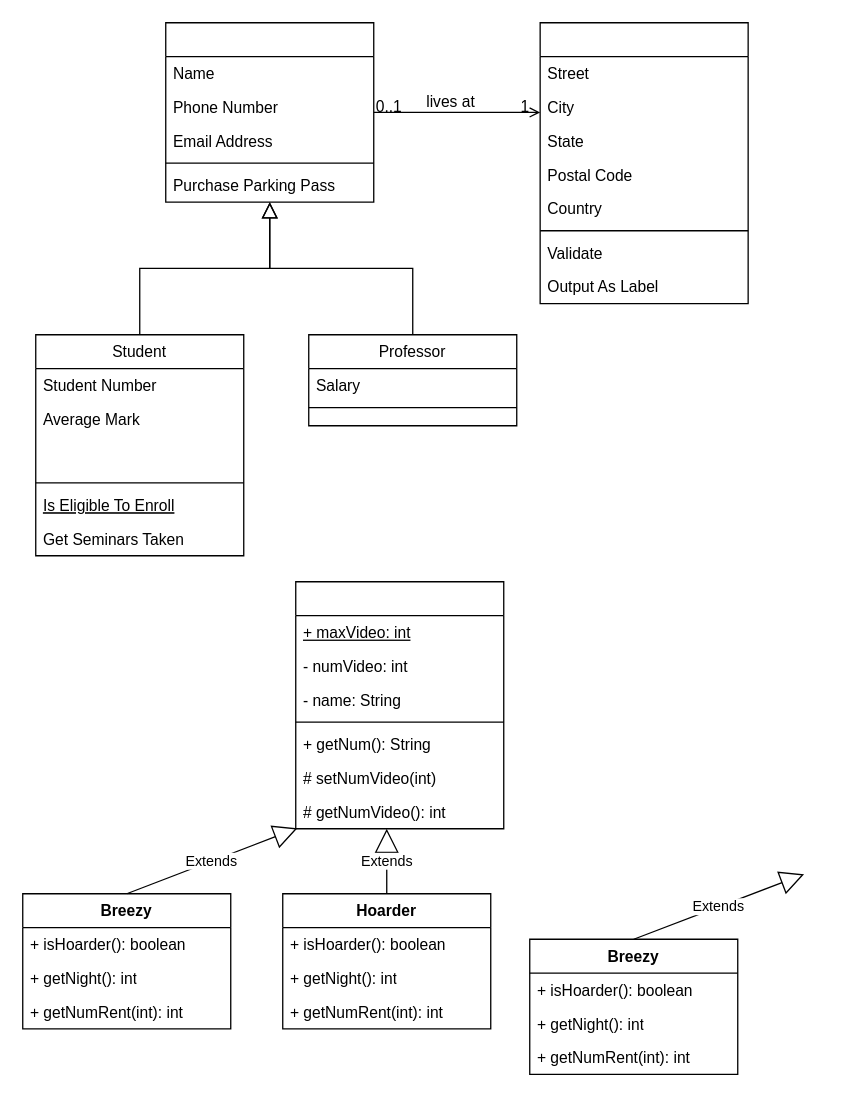
Image size: 850x1101. Some labels were removed from this diagram. Here are the shapes that lost their labels. From the top down, the box of each, then its label:
(164, 21, 374, 202): Person
(539, 21, 748, 304): Address
(294, 580, 504, 829): Customer
